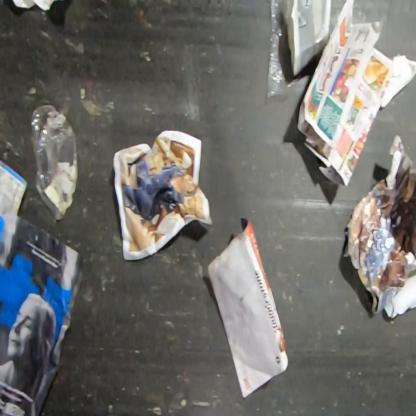cardboard: (379, 52, 415, 111)
rigid_plastic: (30, 102, 78, 222)
soft_plastic: (265, 0, 310, 102)
